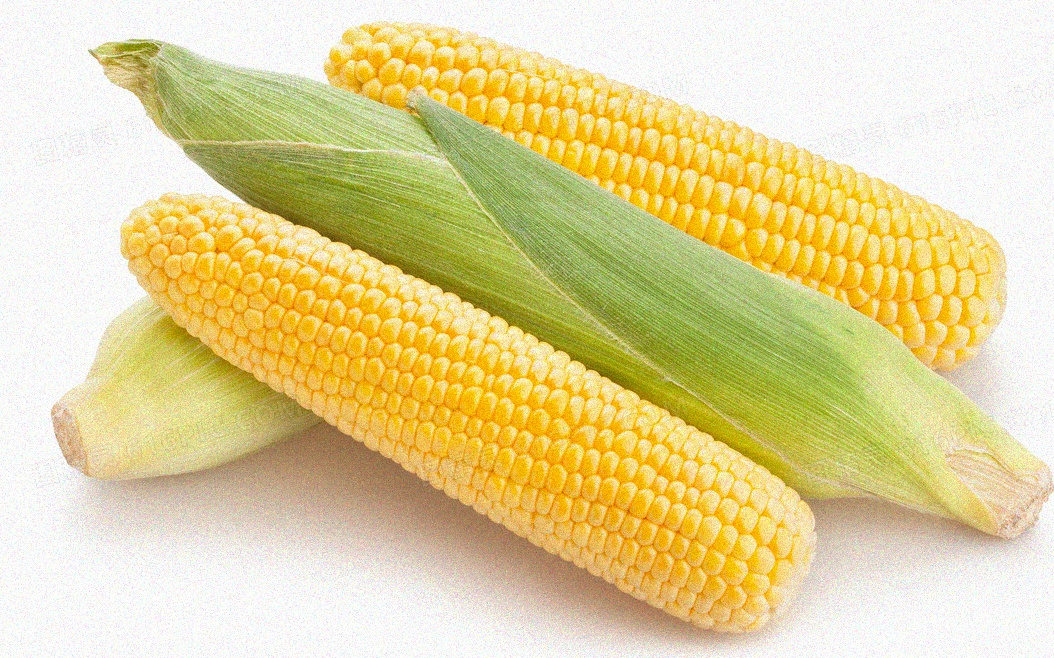corn: (117, 191, 817, 633), (324, 20, 1008, 374)
corn_plant: (95, 50, 1050, 533)
